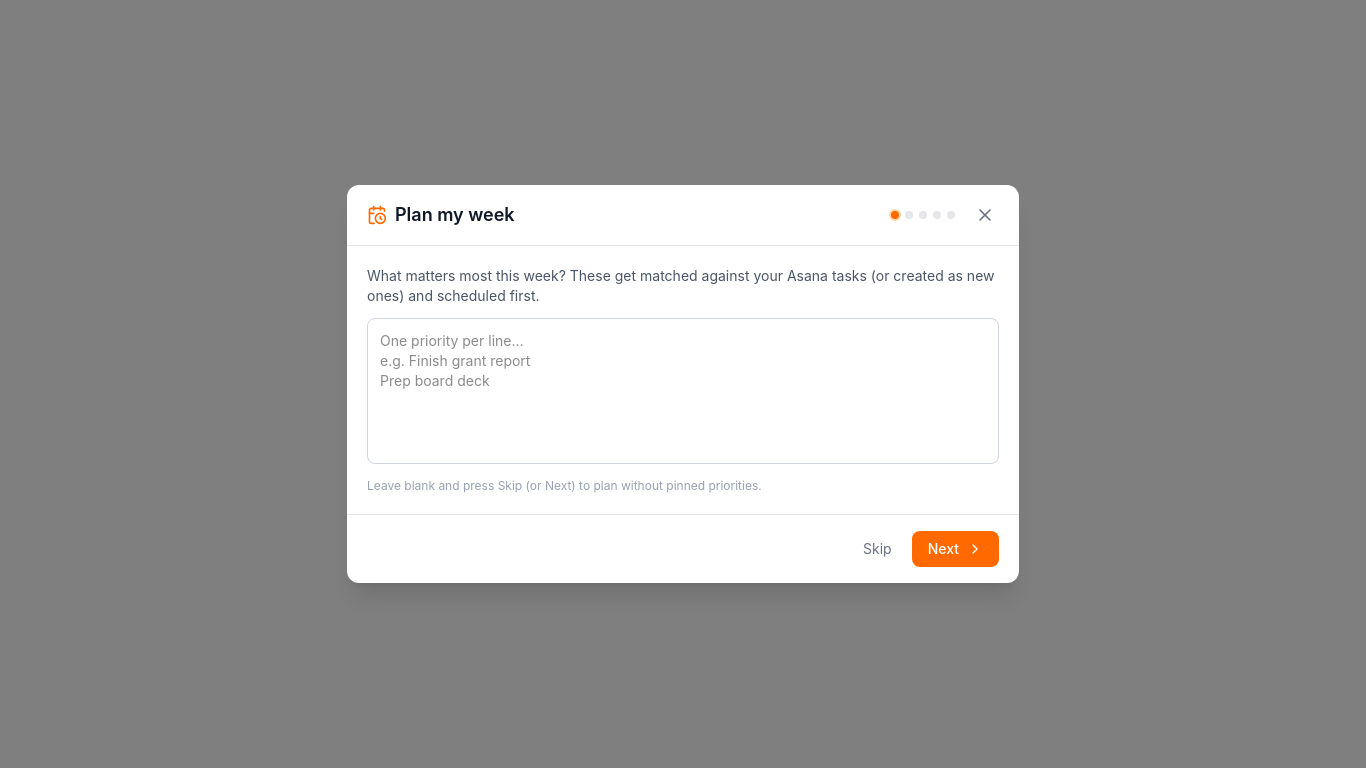
Test case: PlanWeekModal — next-week targeting › passes the target week to every wizard endpoint and shows its dates
The image size is (1366, 768).
Replace the text in the text box with placeholder "One priority per line" with "Ship the report" at (683, 391), box left=367, top=318, right=999, bottom=464
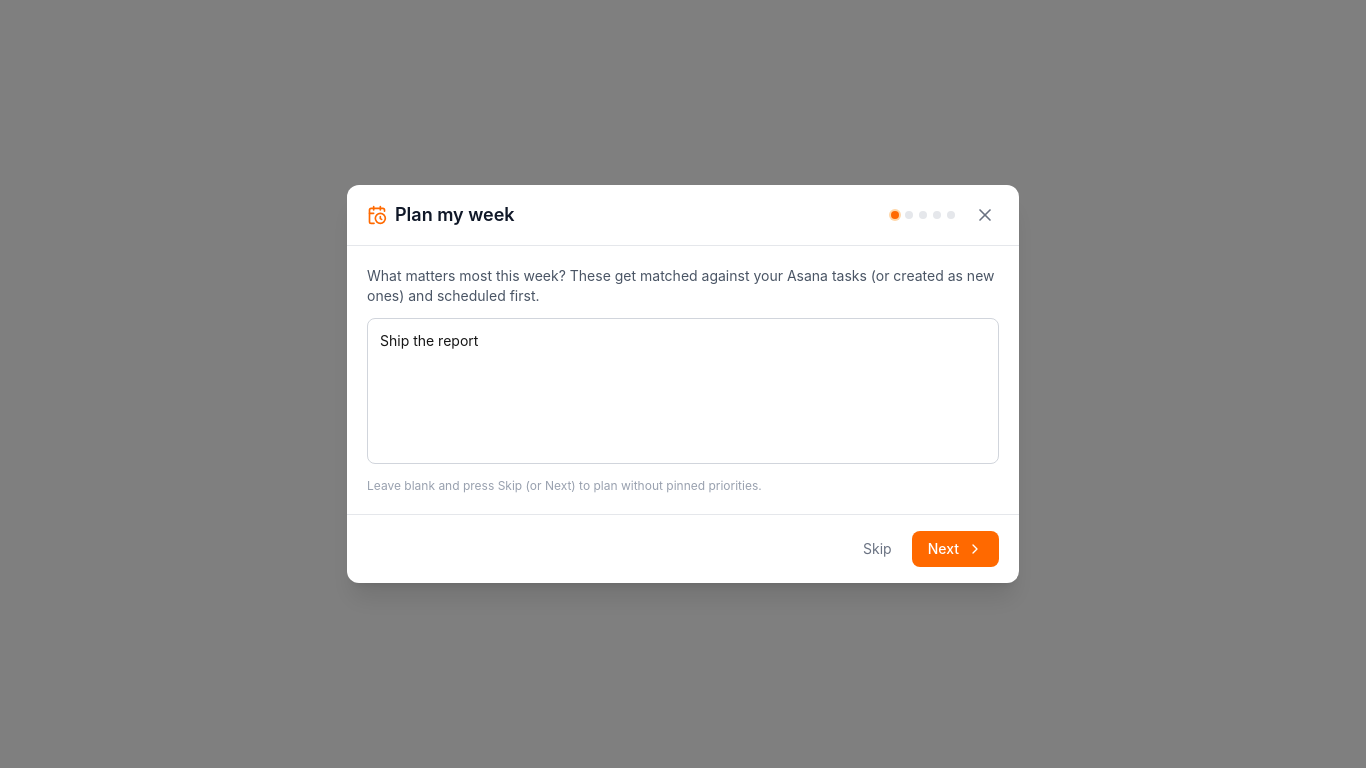
Click the button "Next".
click(955, 549)  # box left=912, top=531, right=999, bottom=567
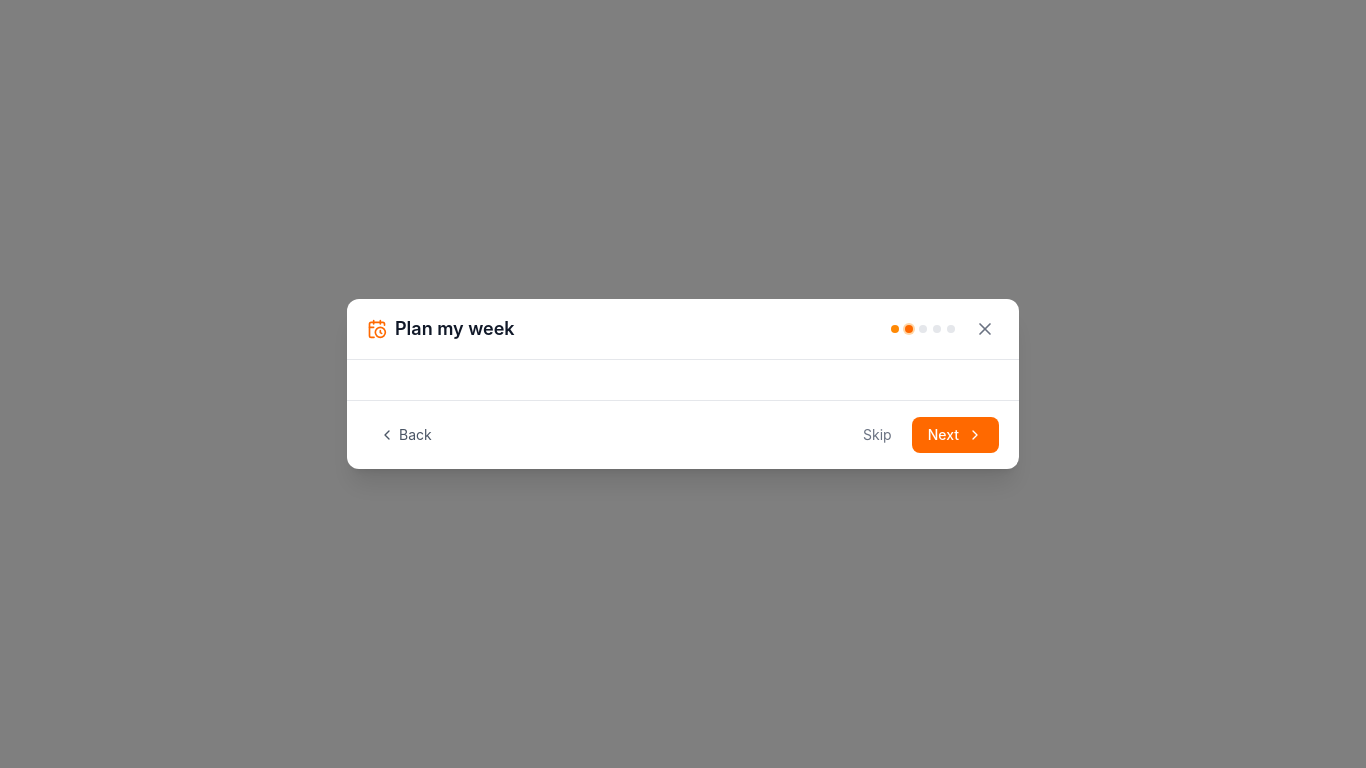
Click the button "Skip".
click(877, 435)  # box left=851, top=417, right=904, bottom=453
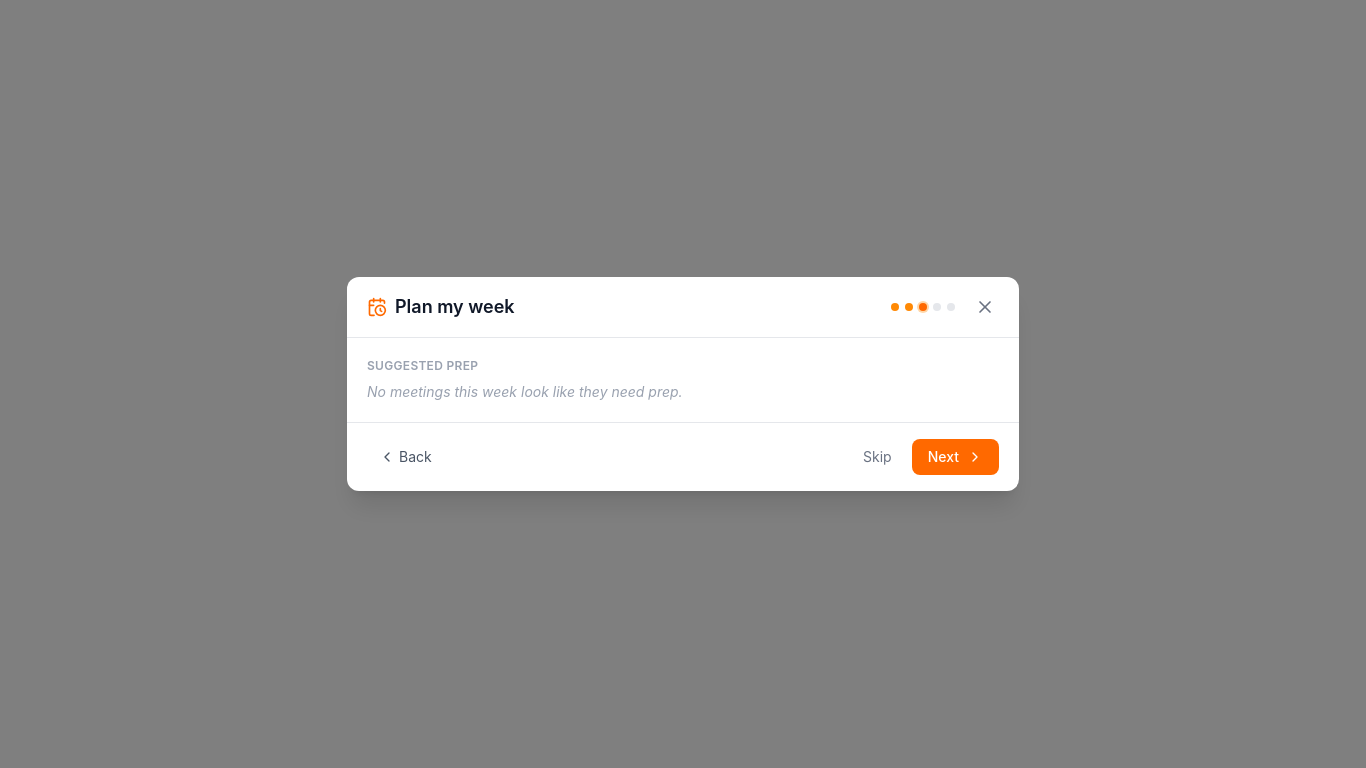
Click the button "Skip".
click(877, 457)  # box left=851, top=439, right=904, bottom=475
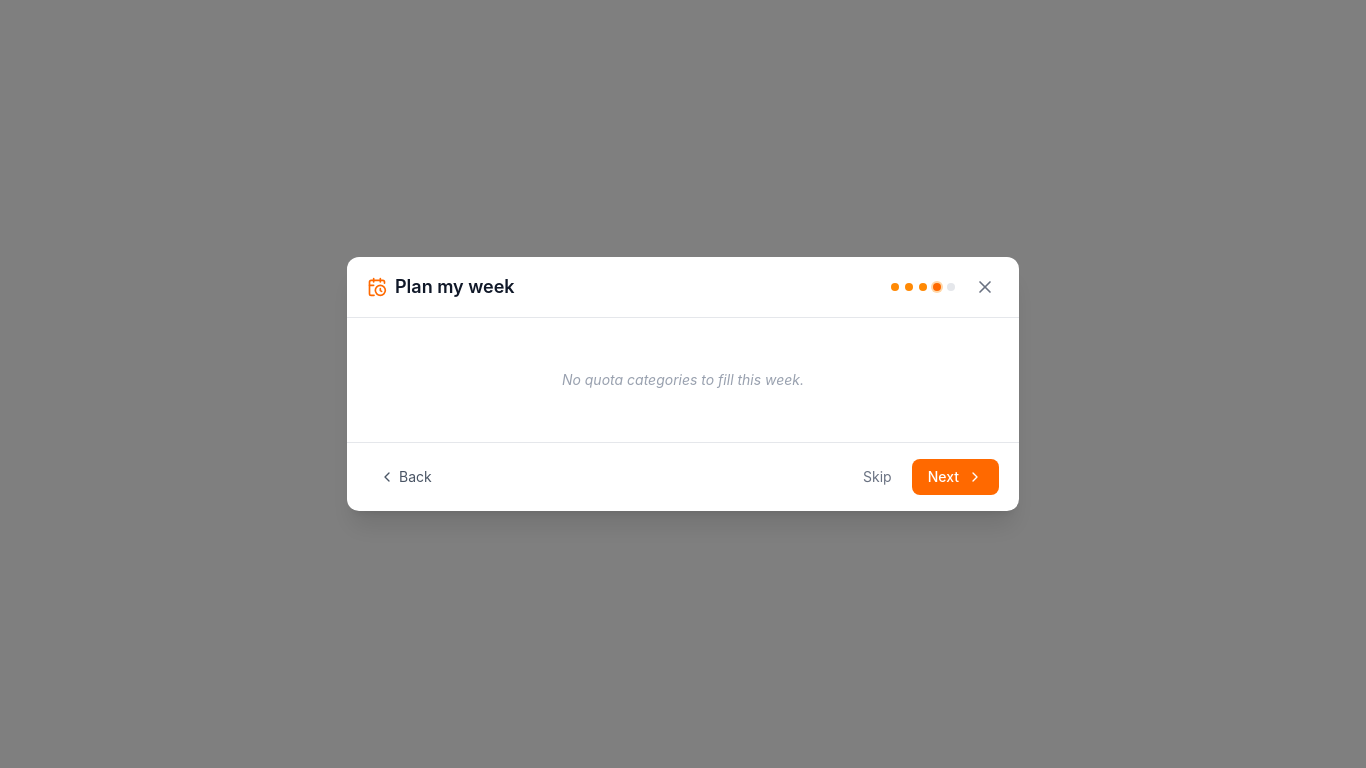
Click the button "Skip".
click(877, 477)  # box left=851, top=459, right=904, bottom=495
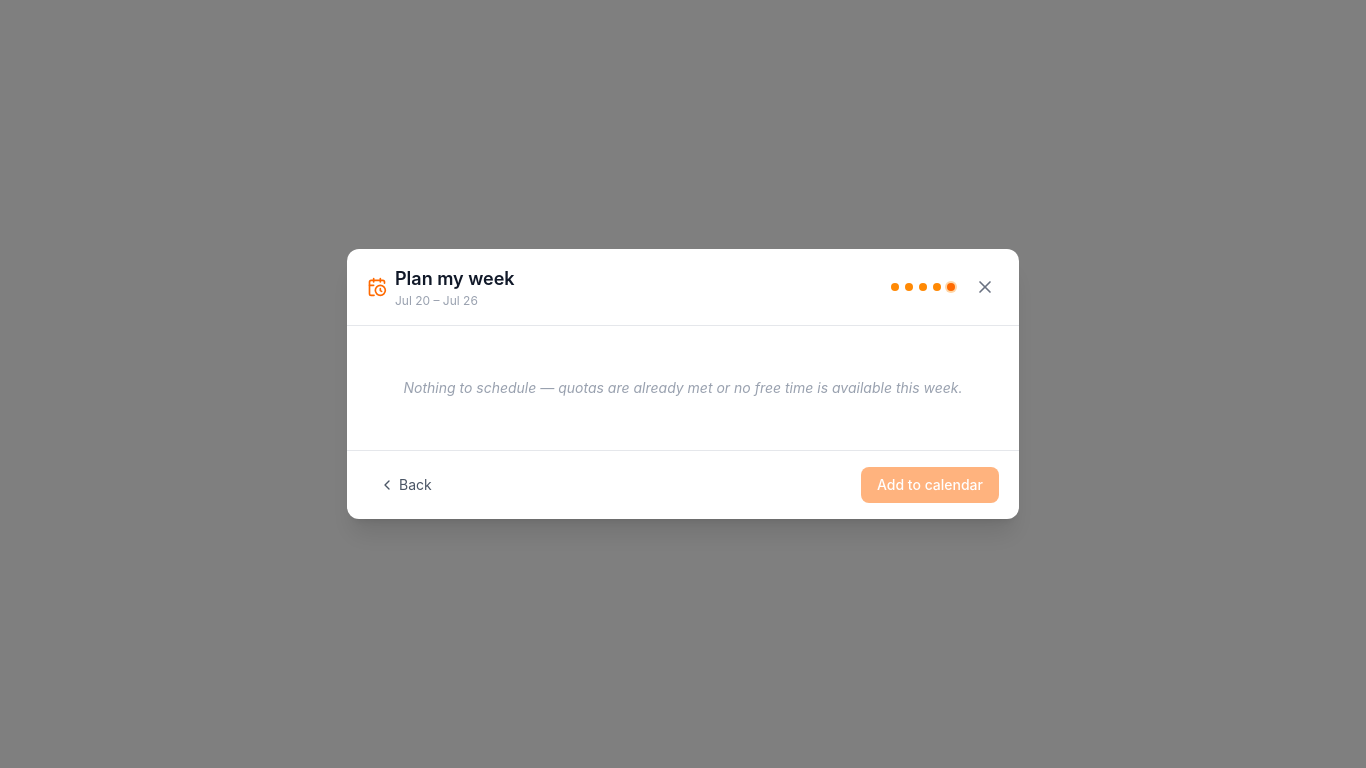
Check: the text "Jul 20 – Jul 26" is shown, box left=395, top=293, right=478, bottom=308
